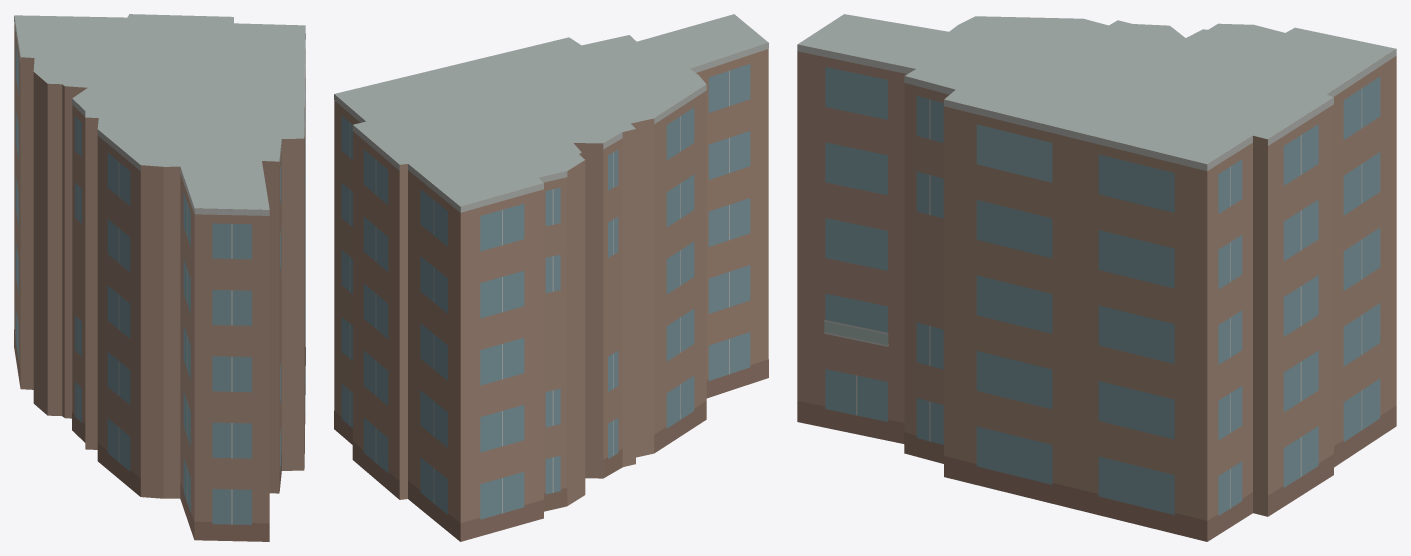
The model's file is survey-upis-33005817.glb.
The picture shows the model from 3 angles, left to right: view 1: azimuth 30°, elevation 25°; view 2: azimuth 150°, elevation 25°; view 3: azimuth 270°, elevation 25°; orthographic projection. The views are drawn at different scales.
Visible parts, largest first — view 1: survey-upis-33005817.tmp; view 2: survey-upis-33005817.tmp; view 3: survey-upis-33005817.tmp.
Part boxes in pixels (left/top/right/bottom): survey-upis-33005817.tmp: left=14, top=14, right=305, bottom=541; survey-upis-33005817.tmp: left=334, top=14, right=768, bottom=541; survey-upis-33005817.tmp: left=797, top=14, right=1396, bottom=541.
Size of the model in its own units: 11.45 by 13.4 by 19.28.
